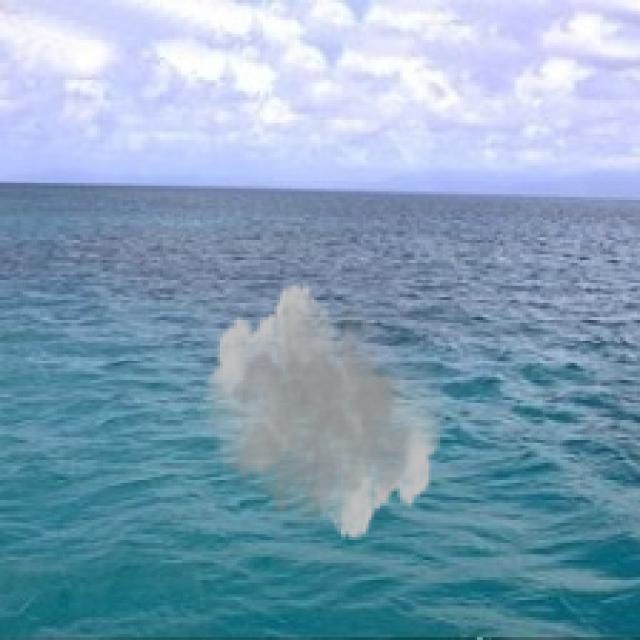Smoke: (203, 280, 446, 543)
